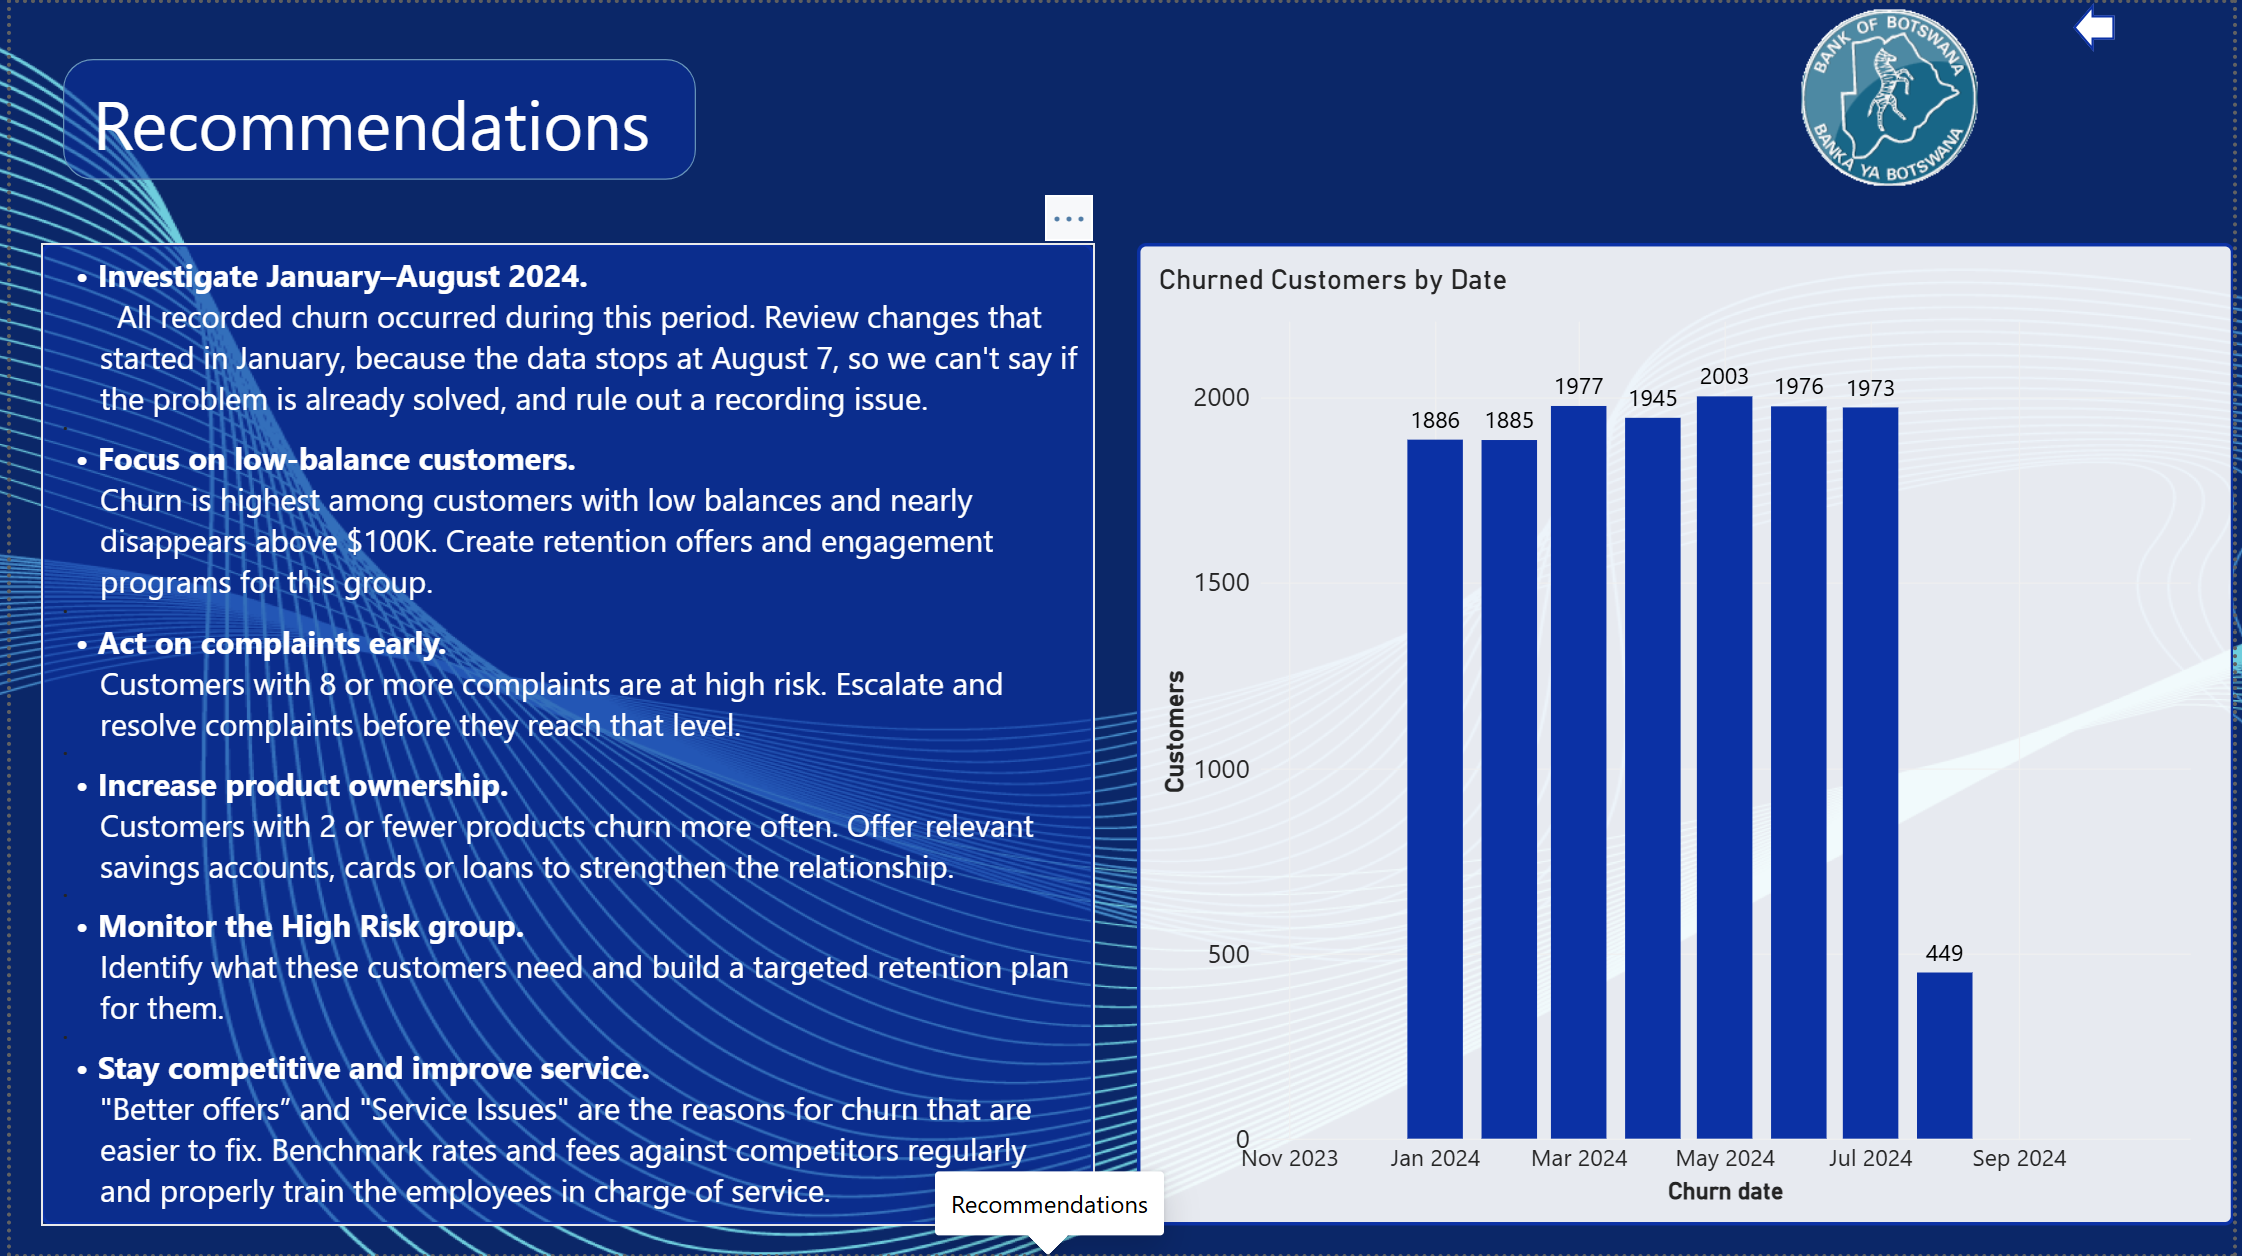

What the dashboard file says about the page in this screenshot:
{"tool":"powerbi","page":{"name":"Recommendations","canvas":[1920,1080],"ordinal":5},"visuals":[{"type":"shape","box":[44.1,49.1,546.9,104.4],"z":0},{"type":"textbox","box":[26,208,910,848],"z":1000},{"type":"textbox","box":[71.4,63.1,492.7,89.8],"z":2000},{"type":"clusteredColumnChart","title":"Churned Customers by Date","fields":{"Category":["Bank Info.Churn Date (bins)"],"Y":["All Measures.Churned Customers"]},"box":[972,208,948,848],"z":3000},{"type":"image","box":[1521.7,0,202.7,164.5],"z":4000},{"type":"shape","box":[1782,0,36,42.3],"z":5000}]}

Visuals, with their boxes in screenshot pixels (x1, y1, x2, y2), scaled from the page's 1920x1080 canvas onto the 2242x1256 screenshot:
shape: detection(51, 57, 690, 179)
textbox: detection(30, 242, 1093, 1228)
textbox: detection(83, 73, 659, 178)
"Churned Customers by Date" clusteredColumnChart: detection(1135, 242, 2241, 1228)
image: detection(1777, 0, 2014, 191)
shape: detection(2081, 0, 2123, 49)
